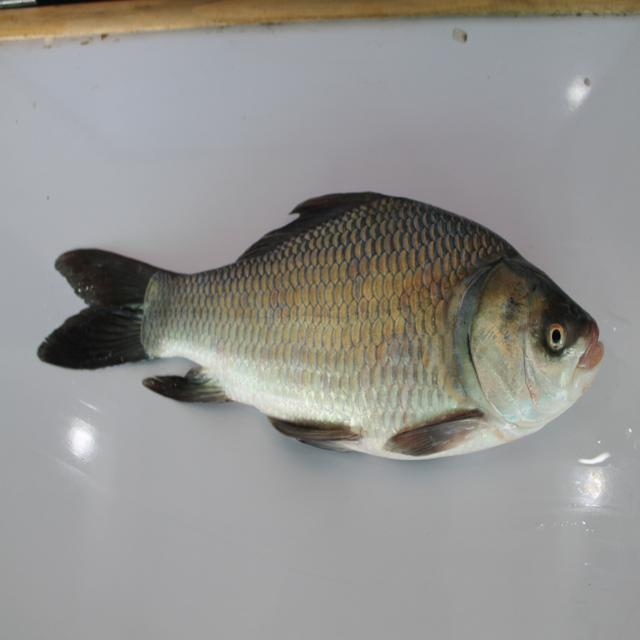Catla: (23, 185, 611, 469)
